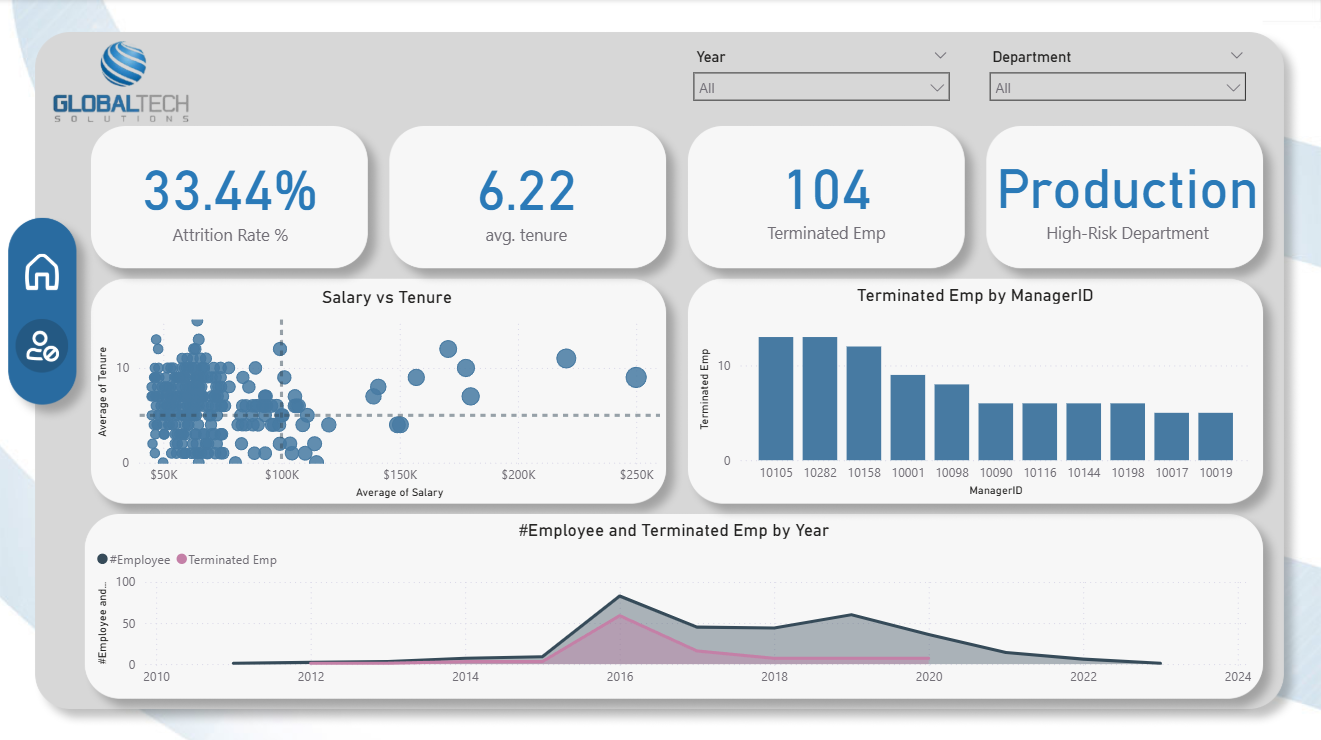

The dashboard page shown, as its layout file describes it:
{"tool":"powerbi","page":{"name":"Atteration analysis","canvas":[1280,720],"ordinal":1},"visuals":[{"type":"card","fields":{"Values":["Dax Measure.Attrition Rate %"]},"box":[106.5,119.6,234.8,139.2],"z":0},{"type":"card","fields":{"Values":["Dax Measure.avg. tenure"]},"box":[393.4,119.6,234.8,139.2],"z":1000},{"type":"card","fields":{"Values":["Dax Measure.Terminated Emp"]},"box":[656.1,118.6,290.5,139.2],"z":2000},{"type":"image","box":[15.6,317.2,53.2,39.6],"z":3000},{"type":"slicer","fields":{"Values":["Calendar.Year"]},"box":[662.1,42.4,268.7,76.3],"z":4000},{"type":"image","box":[13.5,242.2,57,44.8],"z":5000},{"type":"slicer","fields":{"Values":["positions.Department"]},"box":[949,42.4,268.7,76.3],"z":6000},{"type":"card","fields":{"Values":["Dax Measure.High-Risk Department"]},"box":[947.8,118.6,290.5,139.2],"z":7000},{"type":"scatterChart","title":"Salary vs Tenure","fields":{"Size":["Sum(employees.Salary)"],"X":["Avg(employees.Salary)"],"Y":["Avg(employees.Tenure)"],"Category":["employees.EmployeeName"]},"box":[89.6,278.4,572.6,210.6],"z":8000},{"type":"clusteredColumnChart","fields":{"Category":["employees.ManagerID"],"Y":["Dax Measure.Terminated Emp"]},"box":[673,276,544.7,210.6],"z":9000},{"type":"areaChart","fields":{"Y":["Dax Measure.#Employee","Dax Measure.Terminated Emp"],"Category":["Calendar.Year"]},"box":[89.6,503.6,1128.2,170.7],"z":9001}]}

Visuals, with their boxes in screenshot pixels (x1, y1, x2, y2), scaled from the page's 1280x720 canvas onto the 1321x740 screenshot:
card - Dax Measure.Attrition Rate %: (left=110, top=123, right=352, bottom=266)
card - Dax Measure.avg. tenure: (left=406, top=123, right=648, bottom=266)
card - Dax Measure.Terminated Emp: (left=677, top=122, right=977, bottom=265)
image: (left=16, top=326, right=71, bottom=367)
slicer - Calendar.Year: (left=683, top=44, right=961, bottom=122)
image: (left=14, top=249, right=73, bottom=295)
slicer - positions.Department: (left=979, top=44, right=1257, bottom=122)
card - Dax Measure.High-Risk Department: (left=978, top=122, right=1278, bottom=265)
"Salary vs Tenure" scatterChart: (left=92, top=286, right=683, bottom=503)
clusteredColumnChart - employees.ManagerID x Dax Measure.Terminated Emp: (left=695, top=284, right=1257, bottom=500)
areaChart - Dax Measure.#Employee x Dax Measure.Terminated Emp: (left=92, top=518, right=1257, bottom=693)
